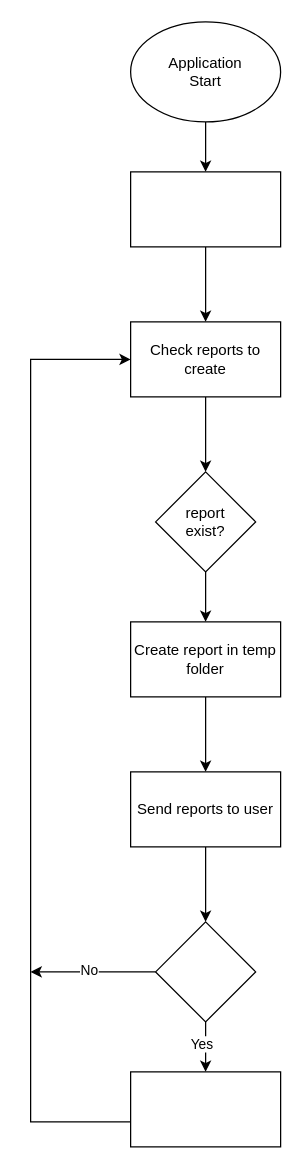
This 303x1169 diagram has some shape labels left out. The shapes that lost their labels are listed below. From the top down, each one's box as (x1, y1, x2, y2) in pixels, then its label:
(129, 171, 281, 247): Remove all files from temp folder
(154, 921, 256, 1022): temp files older > x
(129, 1071, 281, 1147): Remove all old files
